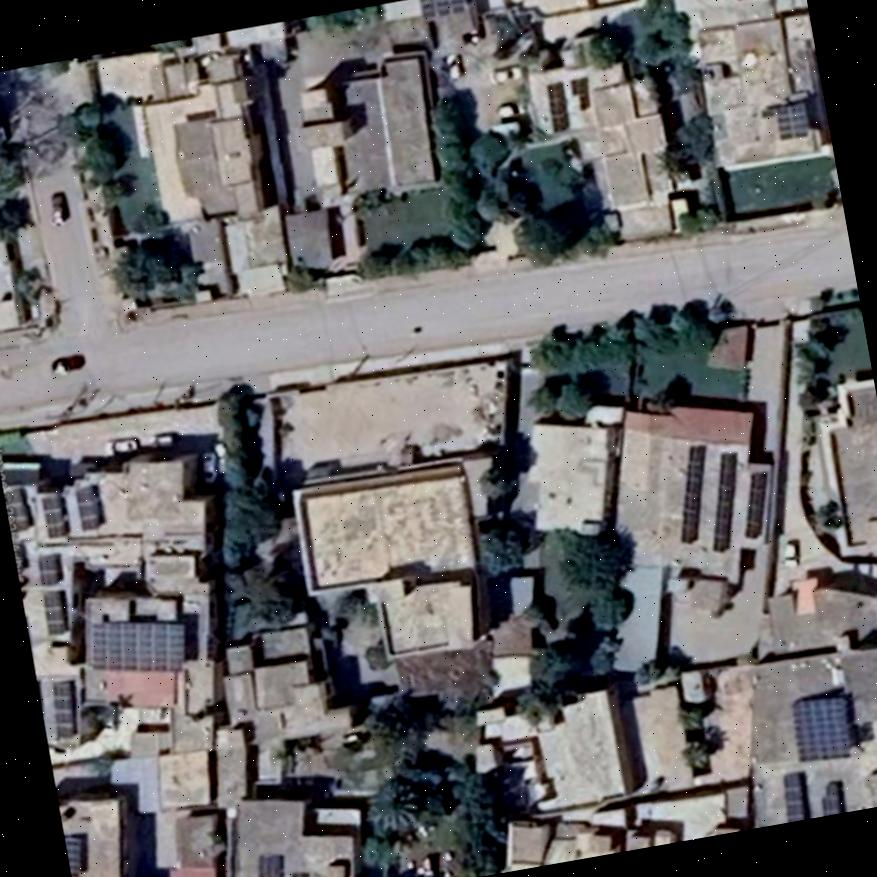Solarpanel: (86, 621, 181, 671), (794, 703, 850, 759), (681, 448, 704, 542), (714, 453, 733, 554), (742, 471, 769, 538), (53, 681, 74, 736), (777, 101, 805, 142), (781, 775, 805, 820), (75, 486, 99, 531), (4, 489, 27, 535), (40, 493, 65, 534), (422, 0, 465, 18), (549, 84, 564, 132), (46, 591, 62, 634), (822, 782, 840, 815), (65, 837, 79, 877), (40, 554, 56, 585)
